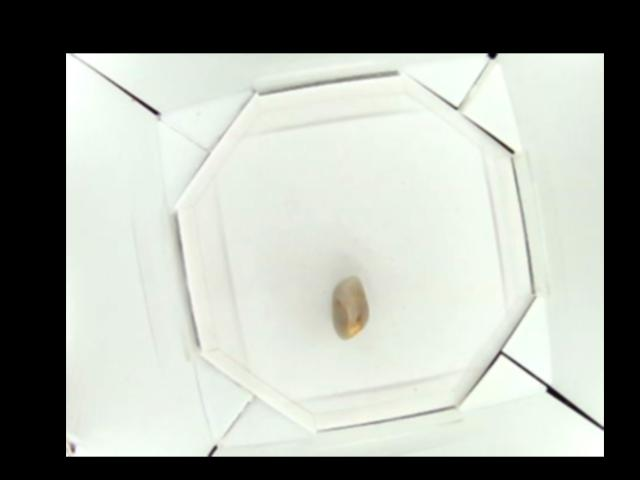Pebble: (332, 276, 368, 344)
